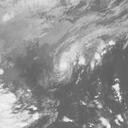cyclone: (46, 44, 74, 84)
